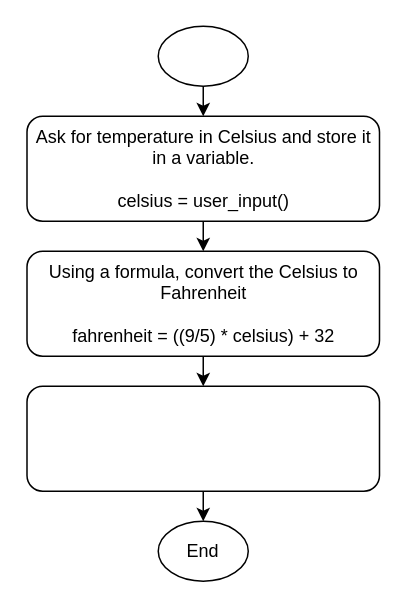
The diagram is 405 pixels wide and 608 high, and some of its shapes have lost their labels. The centre of each missing label's shape, as x and y in pixels:
"Print the Fahrenheit value to the user." goes at point 203,438.
"Start" goes at point 202,55.
